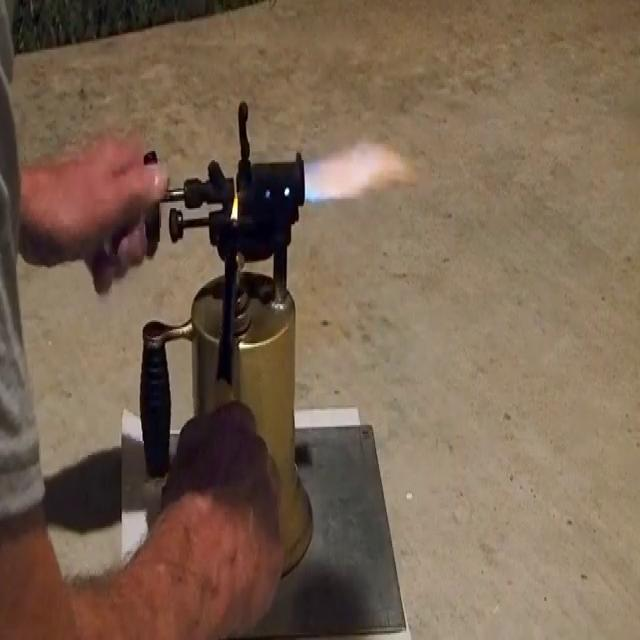fire: (296, 137, 434, 217)
